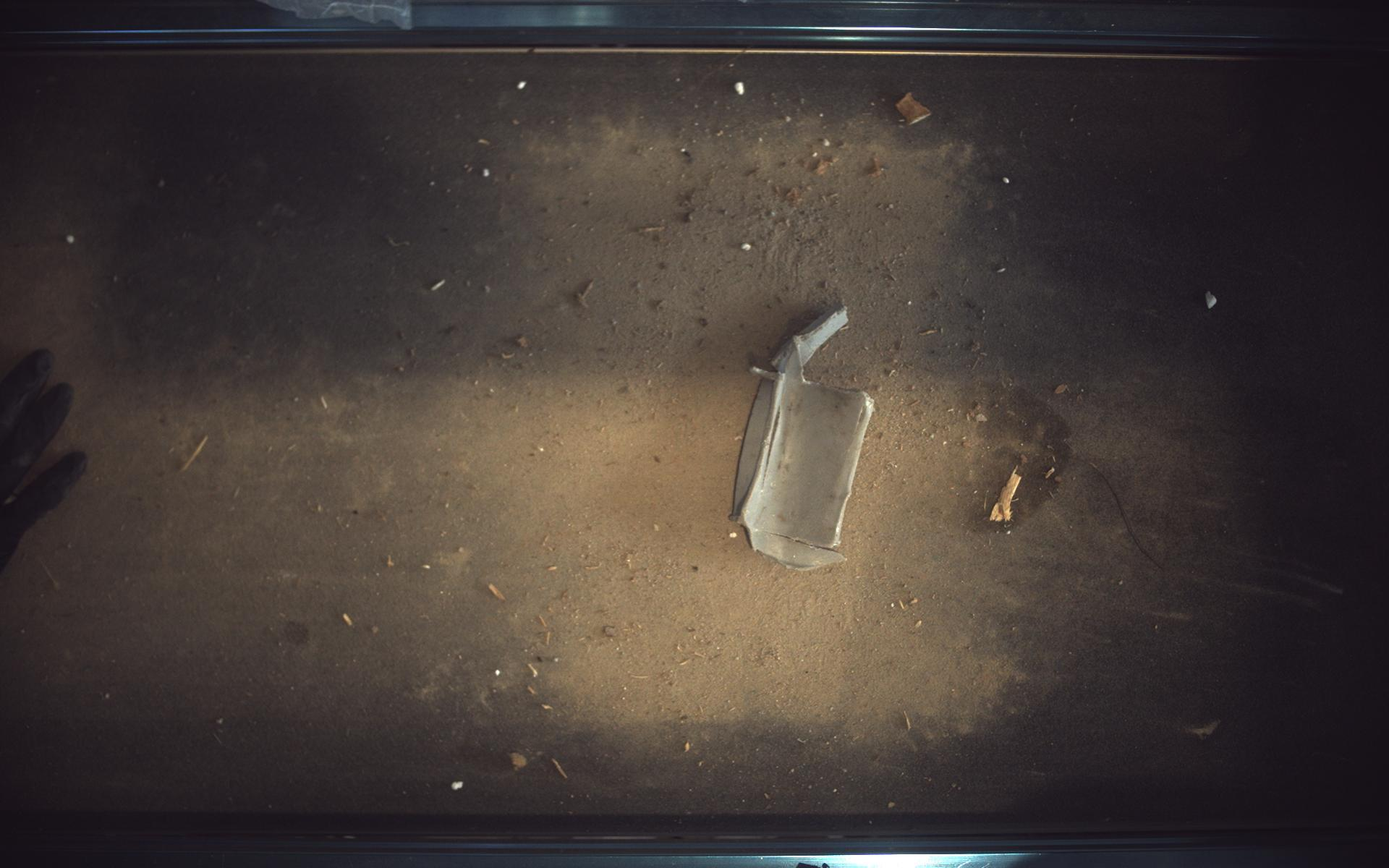plastic: (732, 306, 875, 570)
